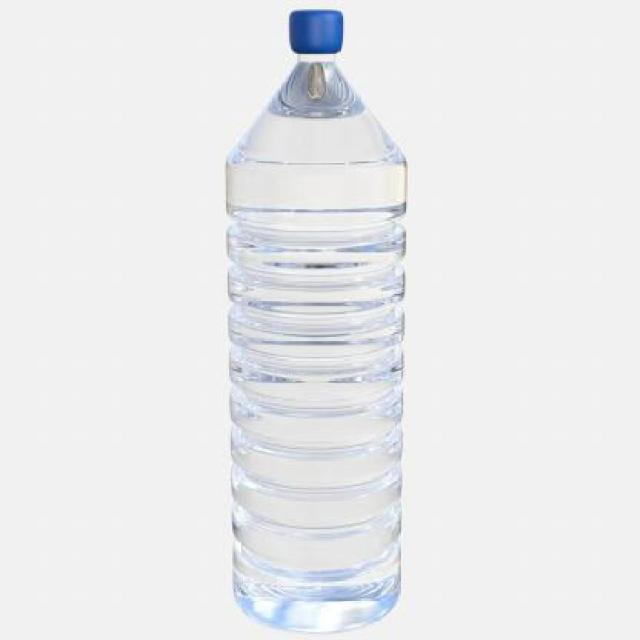bottle: (192, 0, 429, 612)
